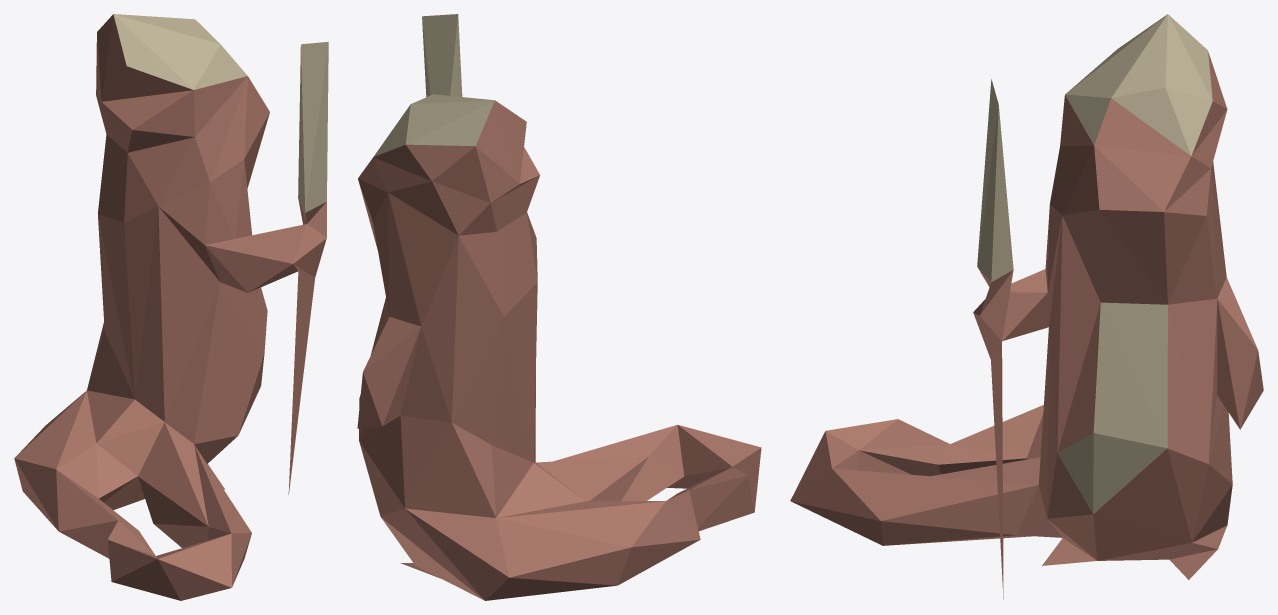
3 views of the same model, side by side, from view 1: azimuth 30°, elevation 25°; view 2: azimuth 150°, elevation 25°; view 3: azimuth 270°, elevation 25° (orthographic). The views are drawn at different scales.
Parts seen in each view (by area): view 1: lion-200; view 2: lion-200; view 3: lion-200.
Boxes of the visible parts, bbox=[...] form: lion-200: bbox=[14, 14, 328, 600]; lion-200: bbox=[357, 14, 761, 600]; lion-200: bbox=[790, 14, 1263, 599].
Size of the model in its own units: 0.614 by 1.01 by 0.8171.
